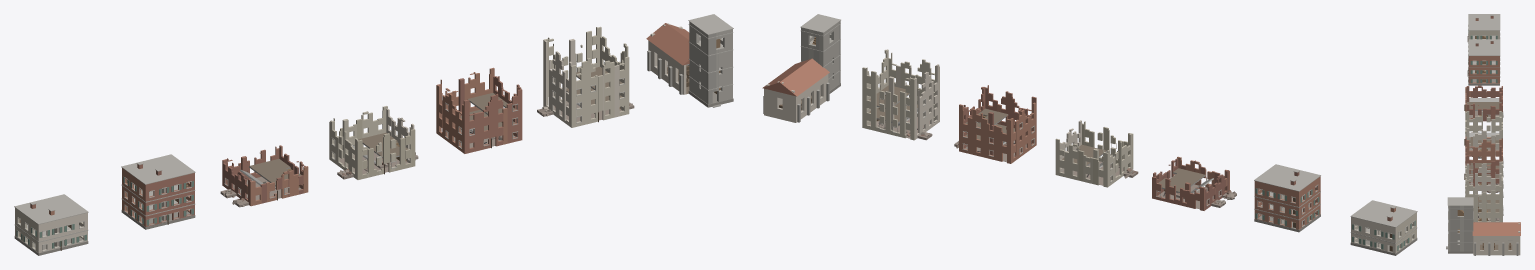
Rendered from buildings.glb.
3 renders of one model, left to right at view 1: azimuth 30°, elevation 25°; view 2: azimuth 150°, elevation 25°; view 3: azimuth 270°, elevation 25°, orthographic. The views are drawn at different scales.
Visible parts, largest first — view 1: vis_plaster_a.002, vis_brick_a.003, vis_stone_a, vis_brick_b.003, vis_plaster_a.001, vis_plaster_c.003, vis_cap.001, vis_brick_a.001, vis_cap, vis_plaster_b, vis_plaster_c, vis_stone_b (+13 smaller); view 2: vis_plaster_a.002, vis_brick_b.003, vis_brick_b.001, vis_plaster_a.001, vis_cap.001, vis_plaster_c.004, vis_plaster_c.003, vis_cap, vis_roof_tile, vis_stone_a, vis_brick_a.003, vis_brick_a.002 (+10 smaller); view 3: vis_plaster_a.002, vis_stone_b, vis_plaster_c.004, vis_cap.001, vis_roof_tile, vis_brick_b.001, vis_brick_b.003, vis_cap, vis_plaster_c.003, vis_brick_c.001, vis_plaster_a.001, vis_cap.006 (+21 smaller).
Part boxes in pixels (<box>): vis_plaster_a.002: <box>543,26,629,127</box>; vis_brick_a.003: <box>463,76,522,153</box>; vis_stone_a: <box>689,22,732,102</box>; vis_brick_b.003: <box>436,67,507,152</box>; vis_plaster_a.001: <box>329,106,411,179</box>; vis_plaster_c.003: <box>544,39,619,126</box>; vis_cap.001: <box>121,154,195,225</box>; vis_brick_a.001: <box>137,164,194,226</box>; vis_cap: <box>14,194,88,251</box>; vis_plaster_b: <box>340,118,415,179</box>; vis_plaster_c: <box>15,208,87,253</box>; vis_stone_b: <box>647,33,722,107</box>; vis_plaster_a.002: <box>862,49,939,140</box>; vis_brick_b.003: <box>959,102,1035,163</box>; vis_brick_b.001: <box>1254,177,1319,229</box>; vis_plaster_a.001: <box>1055,121,1132,187</box>; vis_cap.001: <box>1254,164,1320,227</box>; vis_plaster_c.004: <box>764,74,828,122</box>; vis_plaster_c.003: <box>888,64,939,139</box>; vis_cap: <box>1350,200,1417,250</box>; vis_roof_tile: <box>762,58,829,96</box>; vis_stone_a: <box>808,22,838,94</box>; vis_brick_a.003: <box>963,85,1036,148</box>; vis_brick_a.002: <box>1152,160,1204,210</box>; vis_plaster_a.002: <box>1465,161,1502,222</box>; vis_stone_b: <box>1446,205,1518,255</box>; vis_plaster_c.004: <box>1473,222,1520,255</box>; vis_cap.001: <box>1468,39,1500,83</box>; vis_roof_tile: <box>1472,222,1520,235</box>; vis_brick_b.001: <box>1470,56,1499,83</box>; vis_brick_b.003: <box>1466,137,1502,162</box>; vis_cap: <box>1468,14,1500,47</box>; vis_plaster_c.003: <box>1466,161,1501,196</box>; vis_brick_c.001: <box>1465,85,1501,121</box>; vis_plaster_a.001: <box>1465,111,1502,138</box>; vis_cap.006: <box>1447,197,1518,250</box>.
Bounding box in the file's own units: 167 × 17.39 × 23.9.
